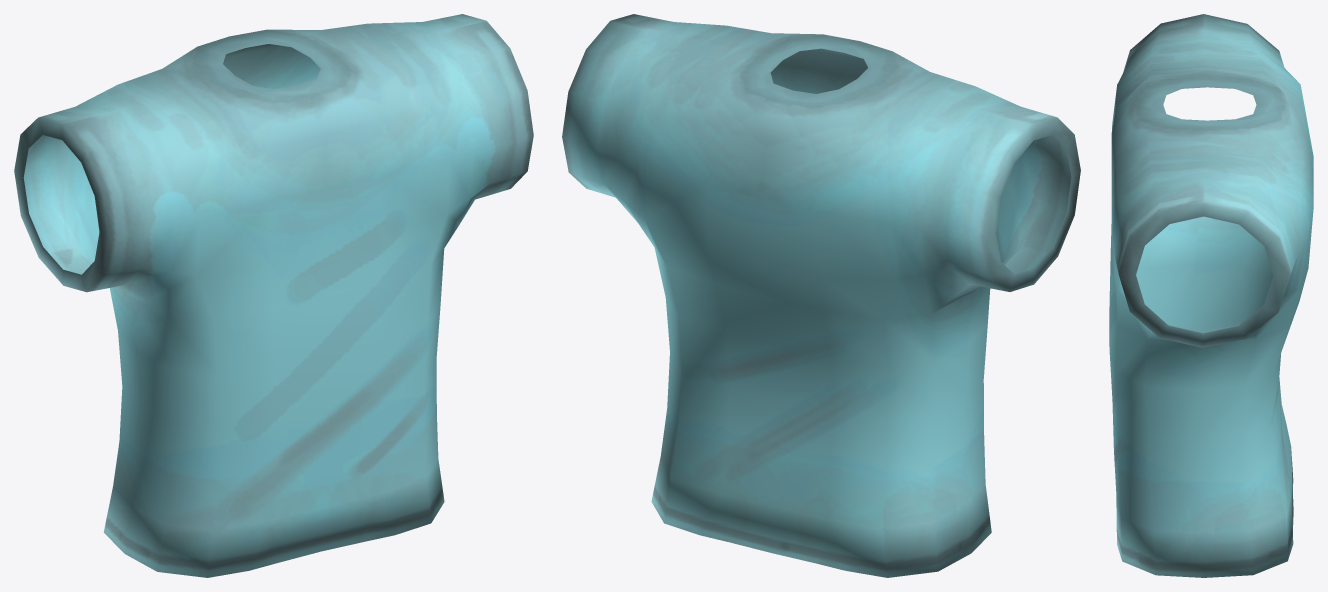
The model's file is t-shirt_green.gltf.
3 renders of one model, left to right at view 1: azimuth 30°, elevation 25°; view 2: azimuth 150°, elevation 25°; view 3: azimuth 270°, elevation 25°, orthographic. The views are drawn at different scales.
Parts seen in each view (by area): view 1: T-Shirt_Green; view 2: T-Shirt_Green; view 3: T-Shirt_Green.
Boxes of the visible parts, bbox=[...] form: T-Shirt_Green: bbox=[14, 14, 533, 577]; T-Shirt_Green: bbox=[562, 14, 1080, 577]; T-Shirt_Green: bbox=[1109, 14, 1313, 577].
Size of the model in its own units: 0.6725 by 0.6806 by 0.3087.
